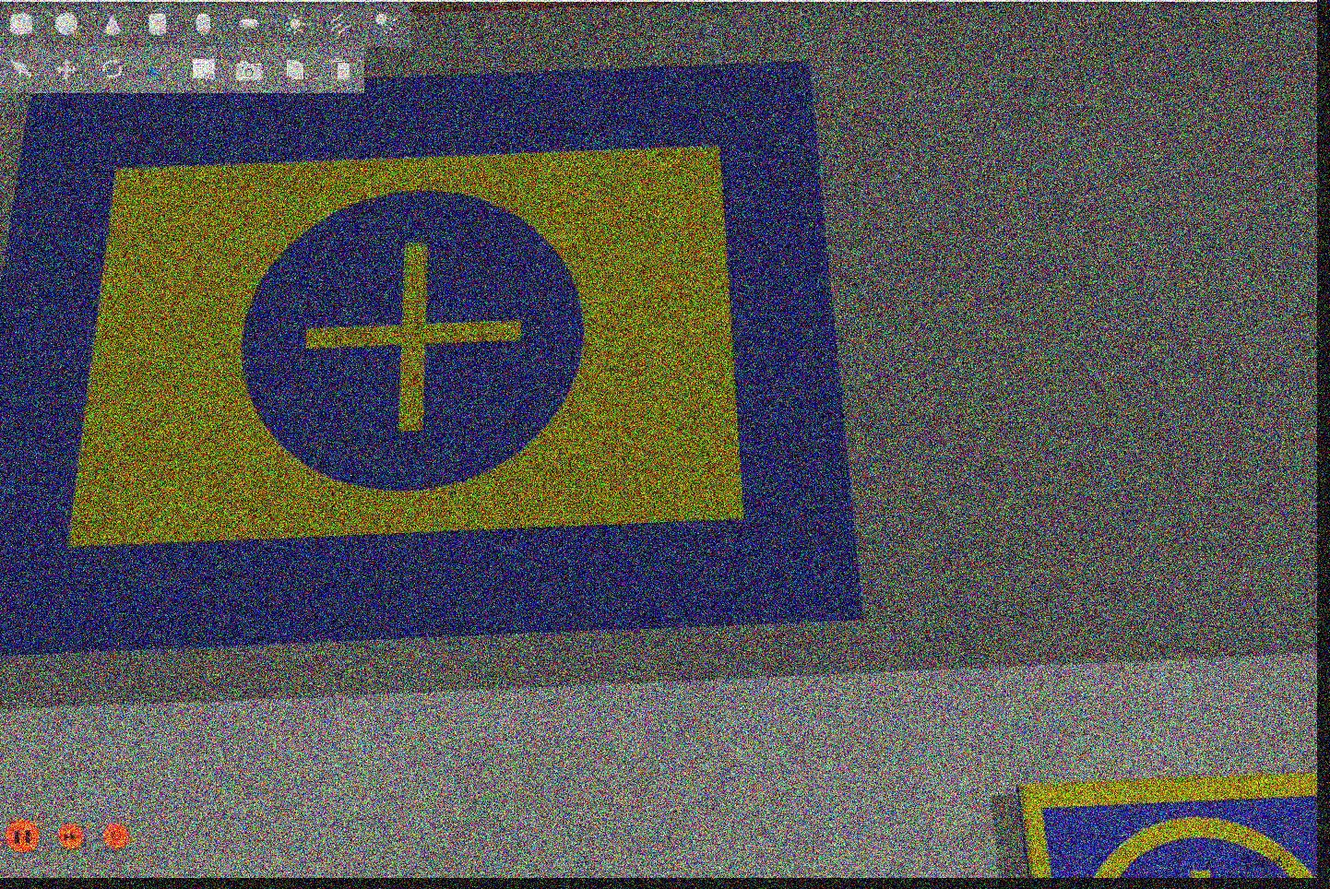large_base: (1, 62, 868, 657)
small_base: (1015, 776, 1319, 880)
